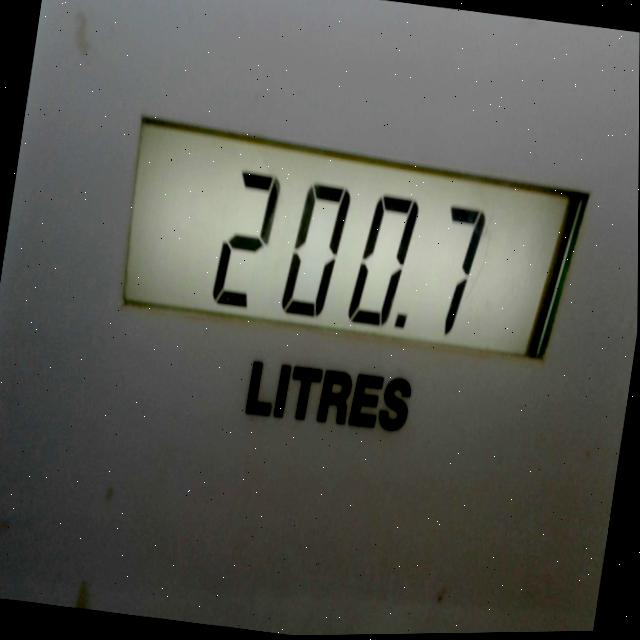.: (390, 305, 414, 340)
0: (281, 178, 351, 325), (350, 193, 419, 329)
2: (215, 170, 278, 308)
7: (430, 206, 490, 345)
